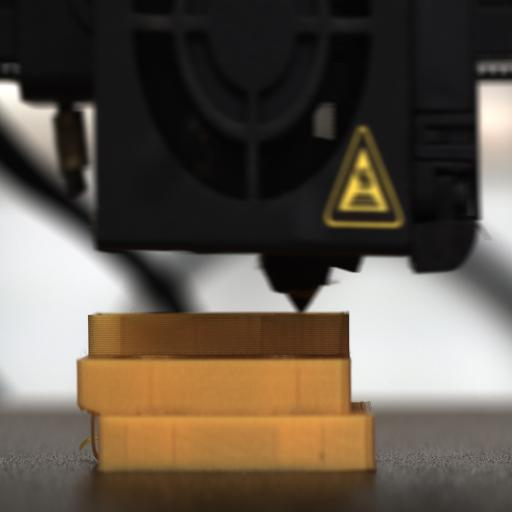layer_shift: (76, 398, 376, 428)
